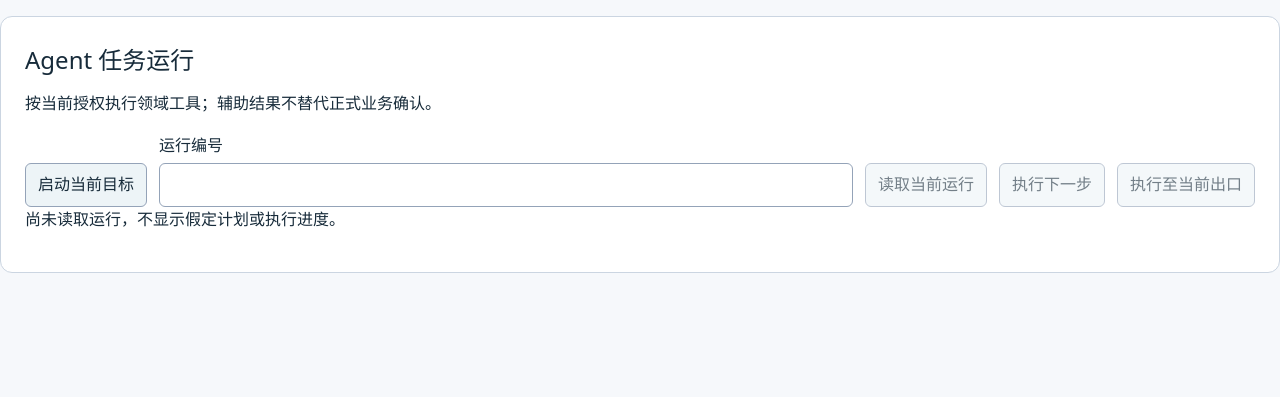
Test: optional browser receipt recovery › cannot send a create before its recovery packet has been saved
The image size is (1280, 397).
Click the button "启动当前目标": (86, 185) [25, 163, 147, 207]
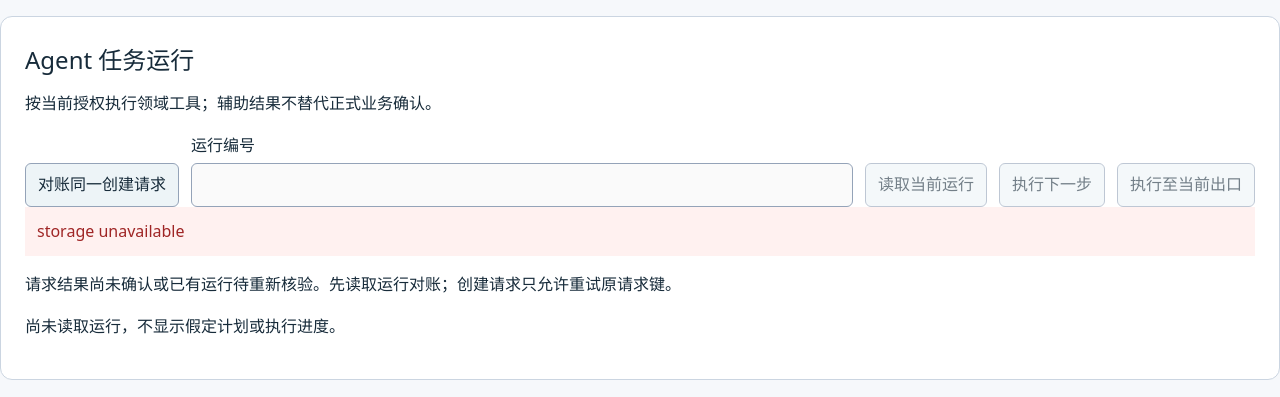
Now the text "storage unavailable" is shown, box [25, 207, 1255, 256]
Now the button "对账同一创建请求" is shown, box [25, 163, 179, 207]
